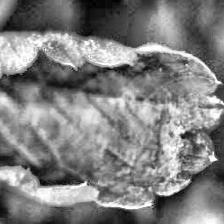Powdery Mildew Leaf: (0, 30, 224, 210)
